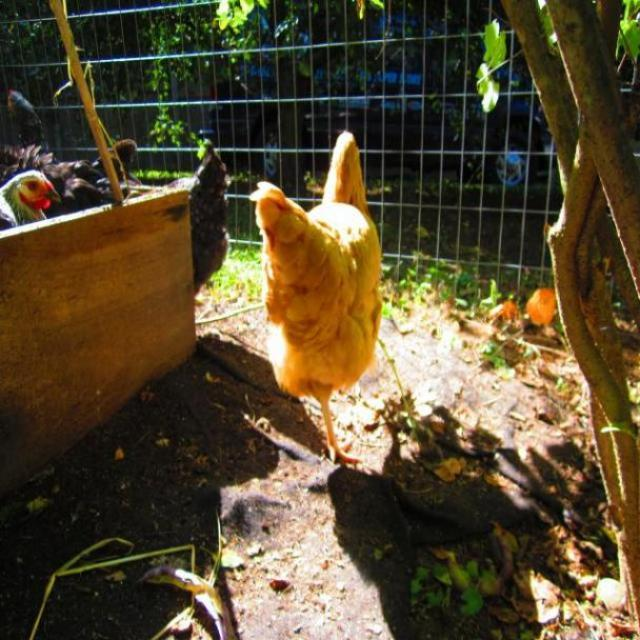Chicken: (258, 128, 394, 466), (5, 82, 136, 173), (2, 165, 59, 230)
